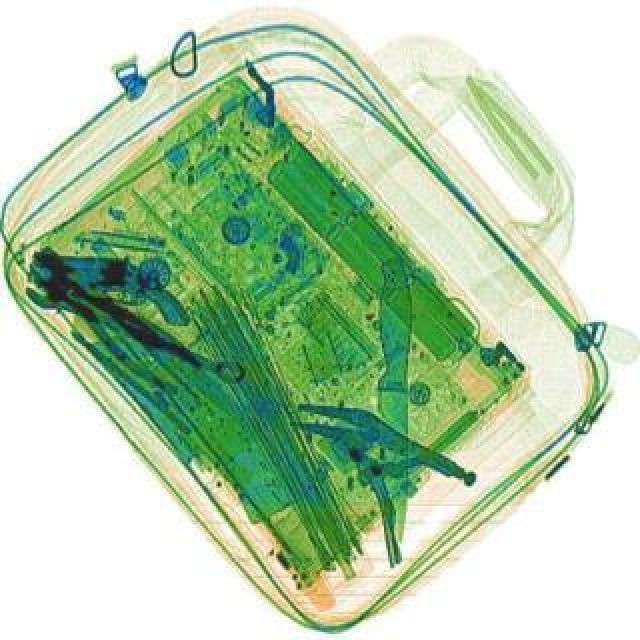gun: (26, 250, 194, 326)
knife: (34, 238, 298, 464), (370, 258, 418, 540)
scissors: (18, 264, 254, 394)
wrench: (10, 234, 242, 408)
